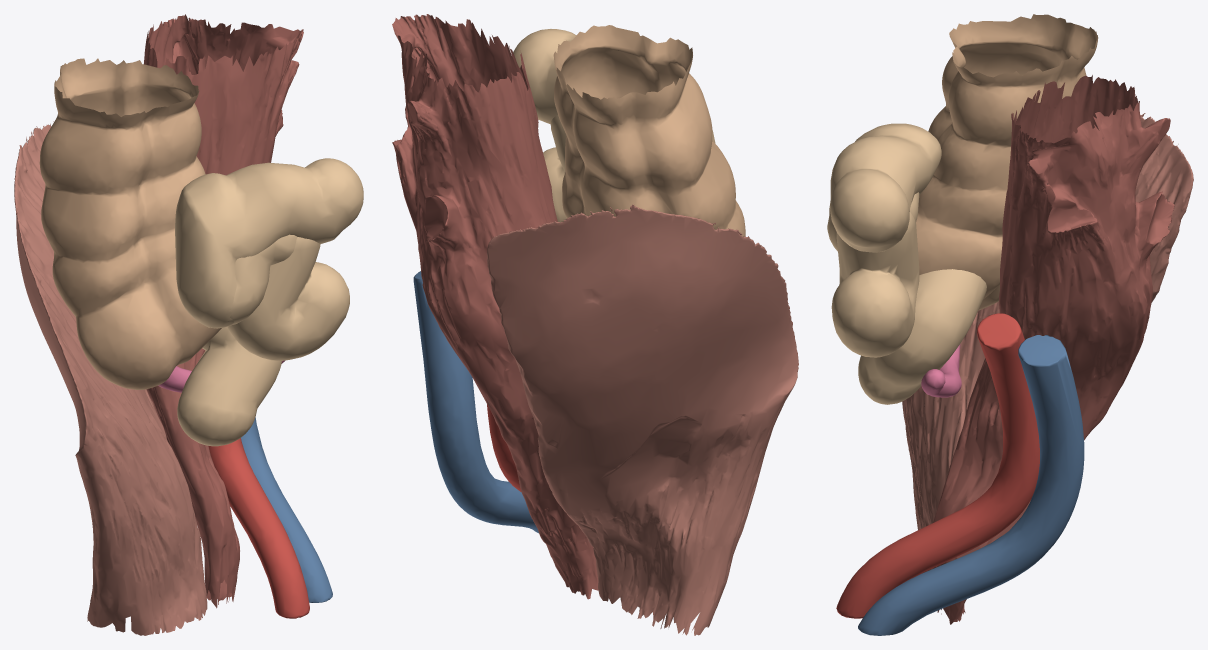
Rendered from appendix.glb.
3 renders of one model, left to right at view 1: azimuth 30°, elevation 25°; view 2: azimuth 150°, elevation 25°; view 3: azimuth 270°, elevation 25°, orthographic. The views are drawn at different scales.
Parts seen in each view (by area): view 1: colon, ileum, right-iliacus, right-psoas-major, right-external-iliac-artery, right-external-iliac-vein, appendix; view 2: right-iliacus, right-psoas-major, colon, right-external-iliac-vein, ileum, right-external-iliac-artery; view 3: right-psoas-major, ileum, colon, right-external-iliac-vein, right-external-iliac-artery, right-iliacus, appendix.
Part boxes in pixels (x1,y1,x2,y2): colon: [39, 58, 221, 389]; ileum: [175, 158, 363, 446]; right-iliacus: [14, 121, 207, 635]; right-psoas-major: [144, 14, 303, 608]; right-external-iliac-artery: [208, 438, 309, 618]; right-external-iliac-vein: [241, 417, 332, 602]; appendix: [158, 360, 285, 392]; right-iliacus: [486, 204, 798, 635]; right-psoas-major: [392, 14, 598, 599]; colon: [553, 25, 745, 236]; right-external-iliac-vein: [413, 271, 538, 533]; ileum: [513, 29, 715, 222]; right-external-iliac-artery: [487, 404, 521, 491]; right-psoas-major: [932, 75, 1174, 624]; ileum: [827, 123, 986, 404]; colon: [916, 14, 1098, 310]; right-external-iliac-vein: [858, 335, 1084, 635]; right-external-iliac-artery: [836, 313, 1039, 618]; right-iliacus: [902, 113, 1193, 573]; appendix: [921, 344, 961, 397].
Size of the model in its own units: 2.01 by 3.3 by 2.02.
